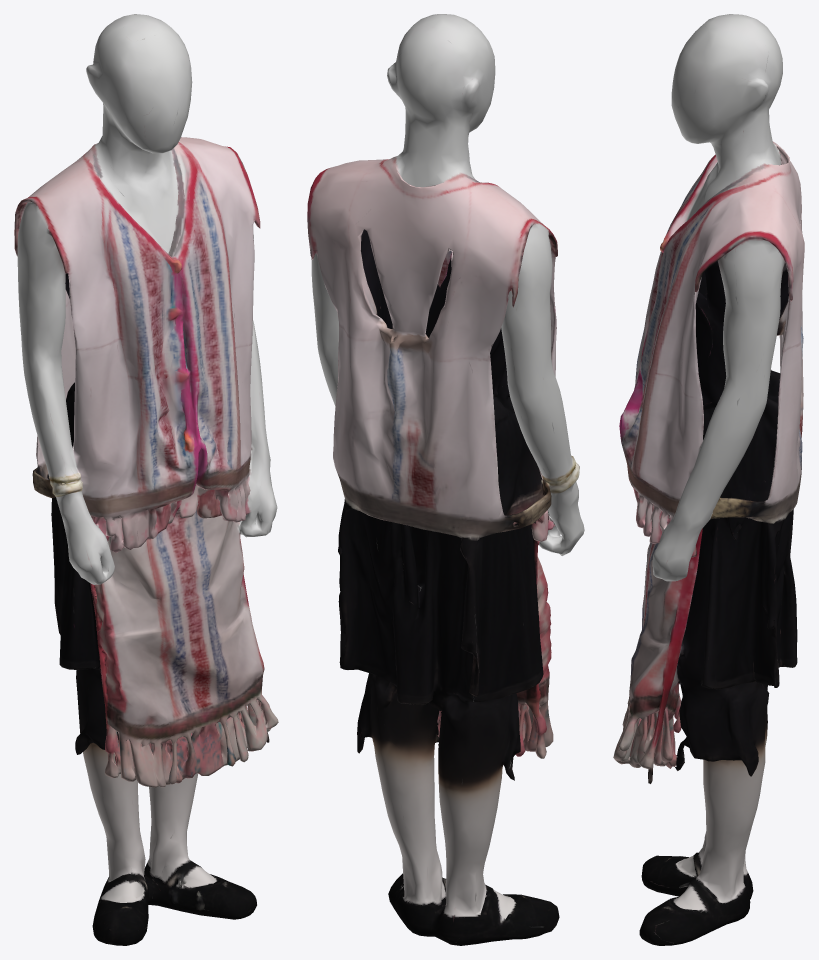
The model's file is Xo_dang_nam_00001.glb.
3 renders of one model, left to right at view 1: azimuth 30°, elevation 25°; view 2: azimuth 150°, elevation 25°; view 3: azimuth 270°, elevation 25°, orthographic. The views are drawn at different scales.
Bounding box in the file's own units: 0.2541 × 0.9667 × 0.1879.
Materials: 1 (1 with a texture image).
